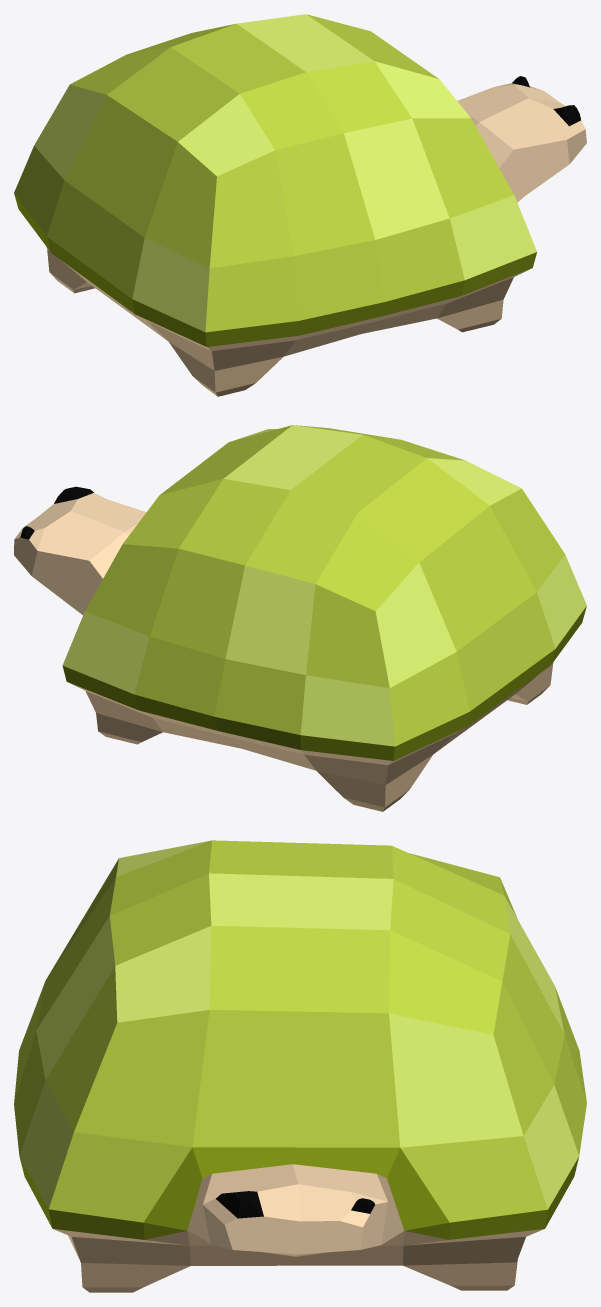
File: turtle_plushie_model.fbx
The picture shows the model from 3 angles, top to bottom: view 1: azimuth 30°, elevation 25°; view 2: azimuth 150°, elevation 25°; view 3: azimuth 270°, elevation 25°; orthographic projection. The views are drawn at different scales.
Parts seen in each view (by area): view 1: Cube; view 2: Cube; view 3: Cube.
Part boxes in pixels (<box>): Cube: <box>14,14,586,396</box>; Cube: <box>14,425,586,811</box>; Cube: <box>14,840,586,1292</box>.
Bounding box in the file's own units: 57.28 × 29.84 × 45.92.
